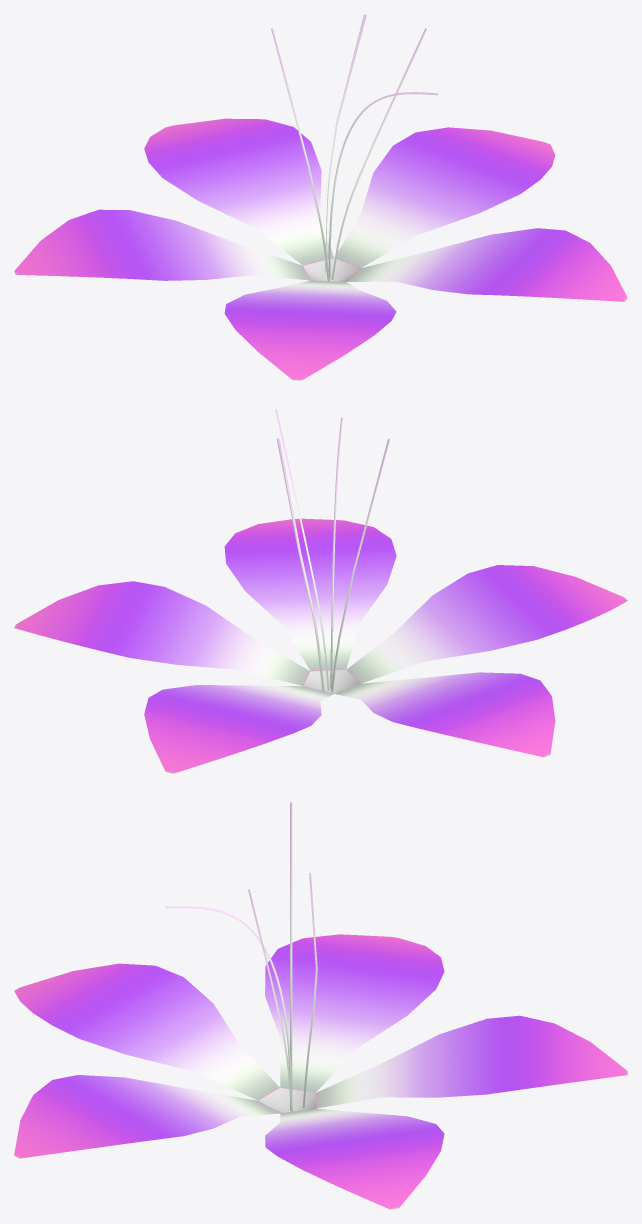
Rendered from flowertest.glb.
3 views of the same model, one above another, from view 1: azimuth 30°, elevation 25°; view 2: azimuth 150°, elevation 25°; view 3: azimuth 270°, elevation 25° (orthographic). The views are drawn at different scales.
Visible parts, largest first — view 1: Plane002, Line001; view 2: Plane002, Line001; view 3: Plane002, Line001.
Part boxes in pixels (x1,y1,x2,y2): Plane002: (14,14,627,380); Line001: (303,258,360,281); Plane002: (14,409,627,773); Line001: (303,669,360,693); Plane002: (14,802,627,1209); Line001: (258,1088,315,1113).
Bounding box in the file's own units: 0.2587 × 0.1249 × 0.2461.
Materials: 1 (1 with a texture image).
